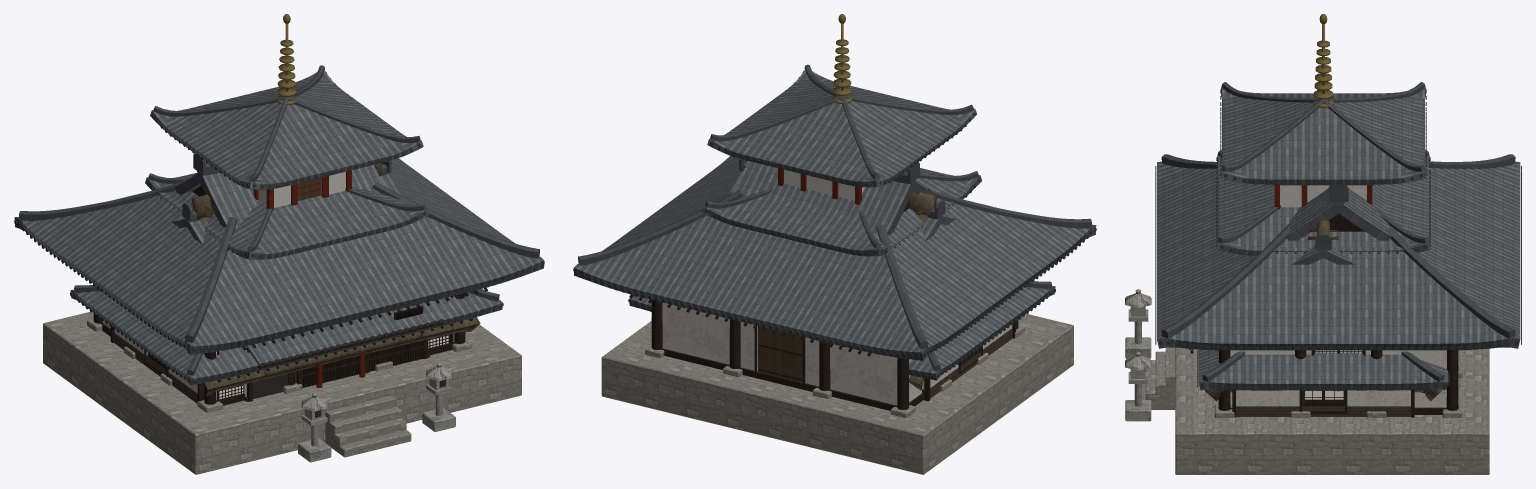
File: eastasia_japan.glb
3 renders of one model, left to right at view 1: azimuth 30°, elevation 25°; view 2: azimuth 150°, elevation 25°; view 3: azimuth 270°, elevation 25°, orthographic. The views are drawn at different scales.
Visible parts, largest first — view 1: temple_ea_mesh, pagoda_small_mesh, house_town_ea_mesh, house_tile_ea_mesh, house_thatch_ea_mesh; view 2: temple_ea_mesh, pagoda_small_mesh, house_tile_ea_mesh, house_town_ea_mesh, house_thatch_ea_mesh; view 3: temple_ea_mesh, pagoda_small_mesh, house_tile_ea_mesh, house_thatch_ea_mesh, house_town_ea_mesh.
Part boxes in pixels (bbox=[...]): temple_ea_mesh: bbox=[14, 153, 544, 474]; pagoda_small_mesh: bbox=[145, 14, 428, 259]; house_town_ea_mesh: bbox=[171, 160, 443, 402]; house_tile_ea_mesh: bbox=[70, 285, 503, 403]; house_thatch_ea_mesh: bbox=[191, 163, 480, 395]; temple_ea_mesh: bbox=[573, 156, 1096, 474]; pagoda_small_mesh: bbox=[702, 14, 981, 256]; house_tile_ea_mesh: bbox=[628, 281, 1055, 401]; house_town_ea_mesh: bbox=[728, 158, 955, 241]; house_thatch_ea_mesh: bbox=[651, 192, 936, 390]; temple_ea_mesh: bbox=[1125, 154, 1521, 474]; pagoda_small_mesh: bbox=[1216, 14, 1430, 255]; house_tile_ea_mesh: bbox=[1197, 349, 1449, 417]; house_thatch_ea_mesh: bbox=[1205, 220, 1441, 401]; house_town_ea_mesh: bbox=[1189, 234, 1355, 353].
Bounding box in the file's own units: 13.7 × 13.58 × 12.88.
19 materials, 13 textured.
